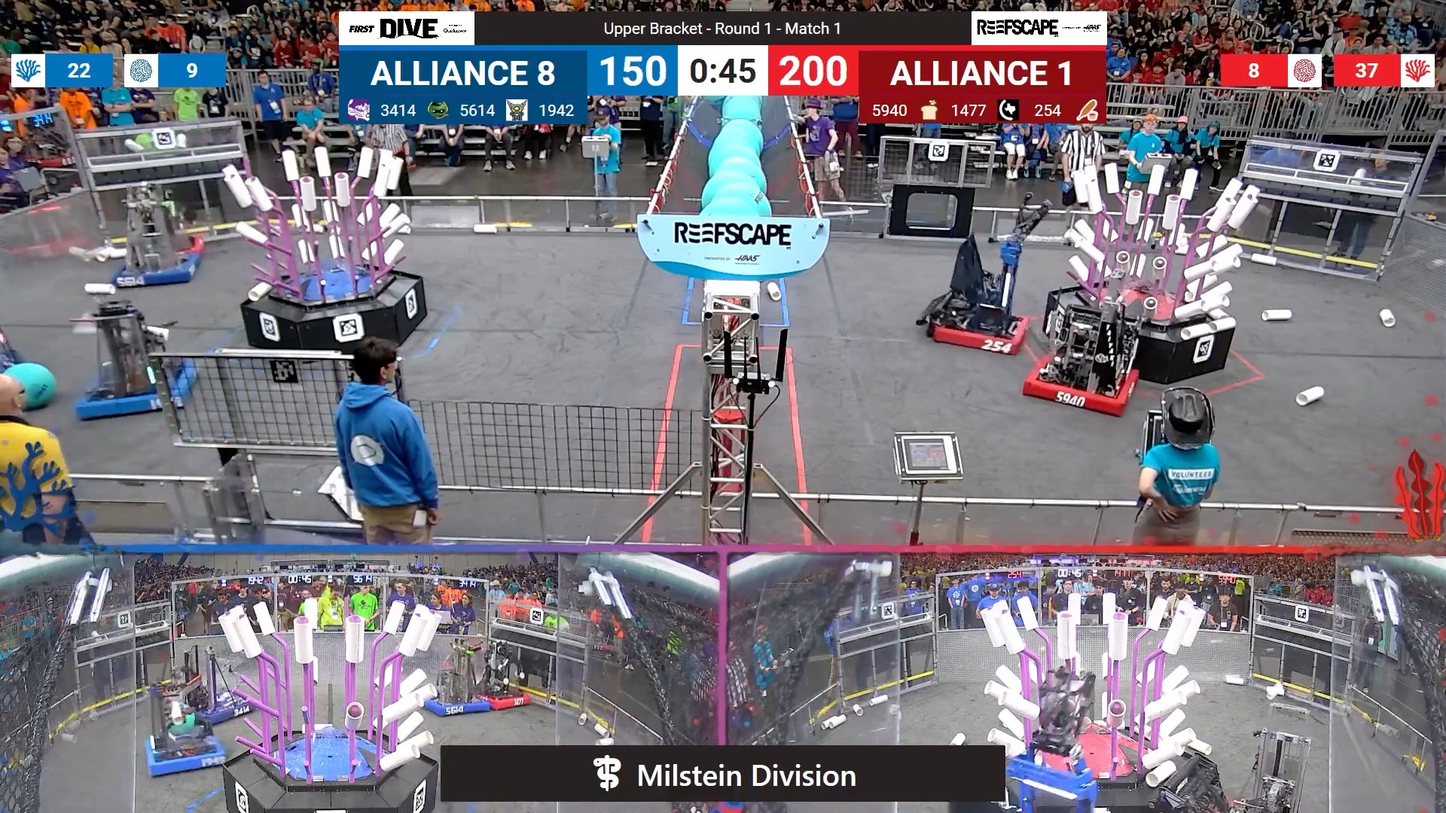bumpers: (1019, 346, 1146, 418), (74, 360, 206, 425), (918, 301, 1034, 358), (139, 724, 233, 784), (107, 249, 209, 293), (413, 688, 495, 722), (475, 682, 531, 713)
